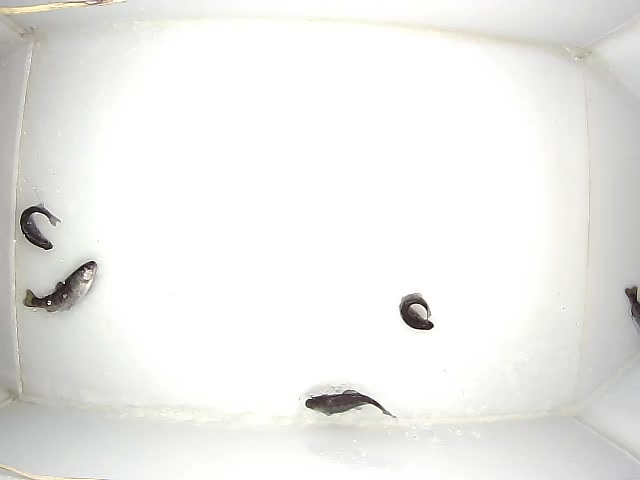fish: (23, 261, 97, 313), (305, 390, 397, 419), (20, 202, 61, 250), (399, 293, 434, 330)
